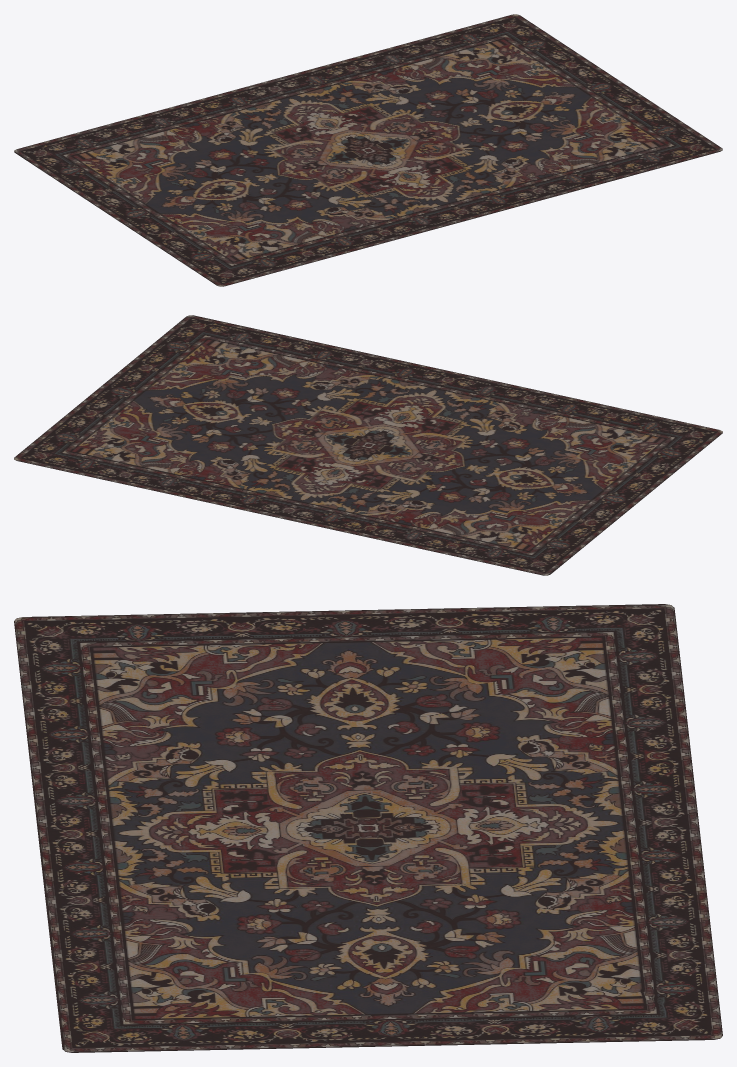
Rendered from rug 1.fbx.
3 views of the same model, one above another, from view 1: azimuth 30°, elevation 25°; view 2: azimuth 150°, elevation 25°; view 3: azimuth 270°, elevation 25° (orthographic). The views are drawn at different scales.
Parts seen in each view (by area): view 1: Rug_01; view 2: Rug_01; view 3: Rug_01.
Boxes of the visible parts, x1=… form: Rug_01: x1=14, y1=14, x2=722, y2=286; Rug_01: x1=14, y1=315, x2=722, y2=575; Rug_01: x1=14, y1=604, x2=722, y2=1052.
Size of the model in its own units: 6.32 by 0.0028 by 4.22.
Materials: 1 (1 with a texture image).
